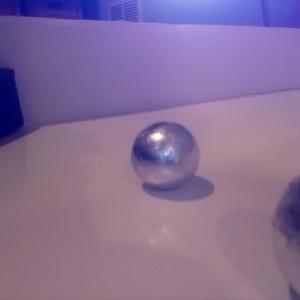alive_ball: (131, 121, 200, 189), (273, 171, 300, 295)
